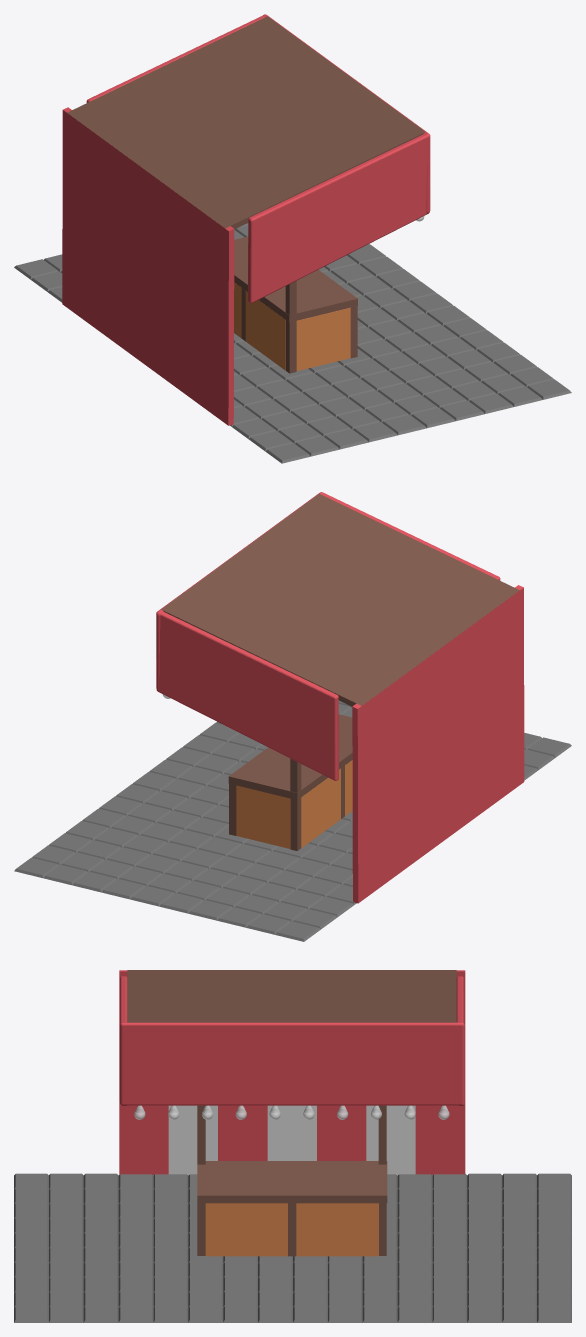
The model's file is yatai.fbx.
The picture shows the model from 3 angles, top to bottom: view 1: azimuth 30°, elevation 25°; view 2: azimuth 150°, elevation 25°; view 3: azimuth 270°, elevation 25°; orthographic projection. The views are drawn at different scales.
Parts seen in each view (by area): view 1: 立方体.006, 立方体.015, 立方体.009, 立方体.008, Cube, 立方体.001, 立方体.002, 立方体.010, 立方体.007; view 2: 立方体.006, 立方体.015, 立方体.009, 立方体.010, Cube.001, 立方体.001, 立方体.005, 立方体.008, 立方体.007; view 3: 立方体.015, 立方体.007, 立方体.009, 立方体.006, 立方体.001, Cube.001, Cube, 球, 立方体.005, 立方体.002, 立方体, 立方体.003.
Part boxes in pixels (<box>): 立方体.006: <box>67,16,425,229</box>; 立方体.015: <box>14,223,571,463</box>; 立方体.009: <box>62,107,234,425</box>; 立方体.008: <box>248,134,428,303</box>; Cube: <box>245,291,350,370</box>; 立方体.001: <box>234,236,357,322</box>; 立方体.002: <box>285,281,296,373</box>; 立方体.010: <box>86,15,264,102</box>; 立方体.007: <box>263,14,430,213</box>; 立方体.006: <box>161,493,519,706</box>; 立方体.015: <box>14,700,571,941</box>; 立方体.009: <box>352,585,524,903</box>; 立方体.010: <box>156,611,338,780</box>; Cube.001: <box>236,768,340,848</box>; 立方体.001: <box>228,714,352,800</box>; 立方体.005: <box>290,758,301,850</box>; 立方体.008: <box>322,492,500,580</box>; 立方体.007: <box>156,492,322,690</box>; 立方体.015: <box>14,1173,571,1322</box>; 立方体.007: <box>119,1022,464,1105</box>; 立方体.009: <box>119,970,465,1174</box>; 立方体.006: <box>127,970,456,1022</box>; 立方体.001: <box>197,1161,387,1203</box>; Cube.001: <box>296,1203,378,1256</box>; Cube: <box>205,1203,287,1256</box>; 球: <box>134,1105,449,1119</box>; 立方体.005: <box>378,1105,386,1164</box>; 立方体.002: <box>197,1105,205,1164</box>; 立方体: <box>288,1203,296,1256</box>; 立方体.003: <box>197,1203,205,1255</box>.
Bounding box in the file's own units: 854 × 678 × 1352.
